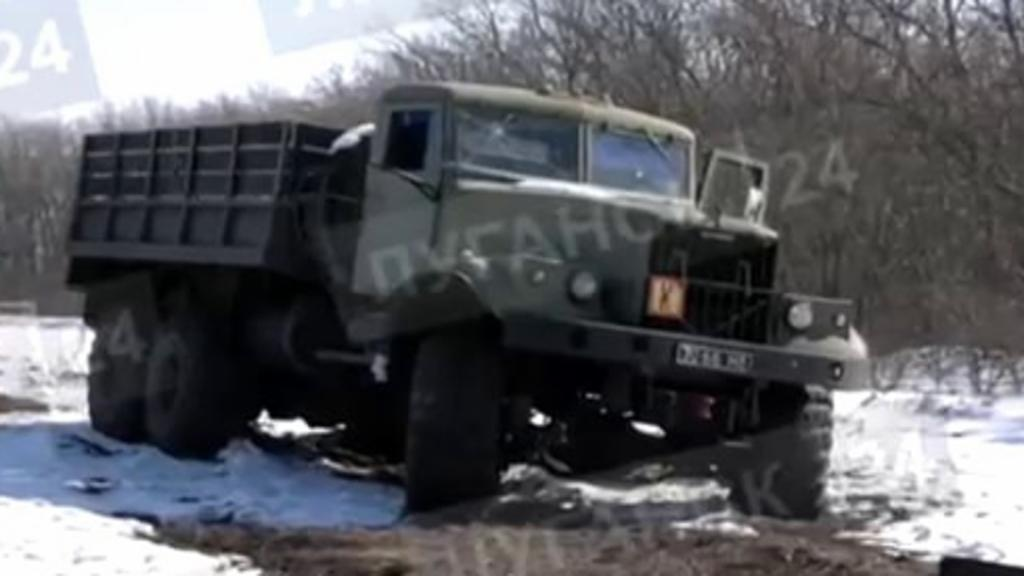TRUCK: (60, 78, 872, 523)
